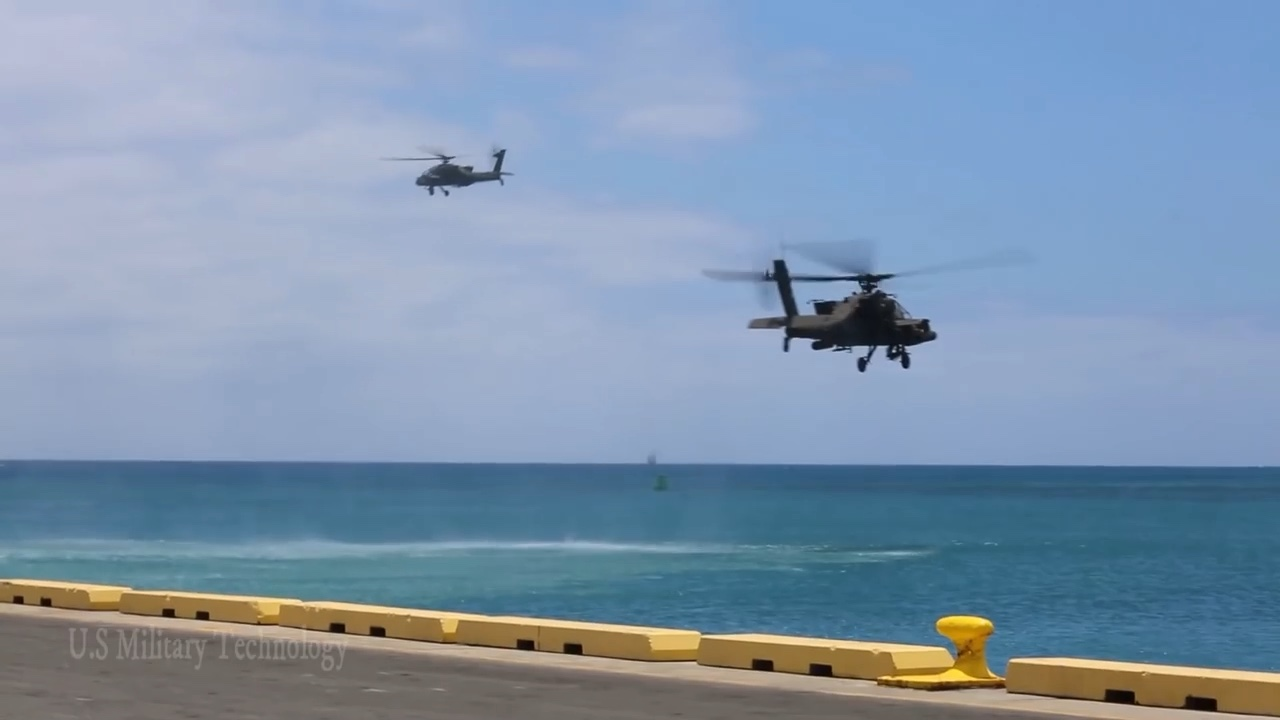ah64: (700, 239, 1028, 376), (373, 141, 518, 198)
